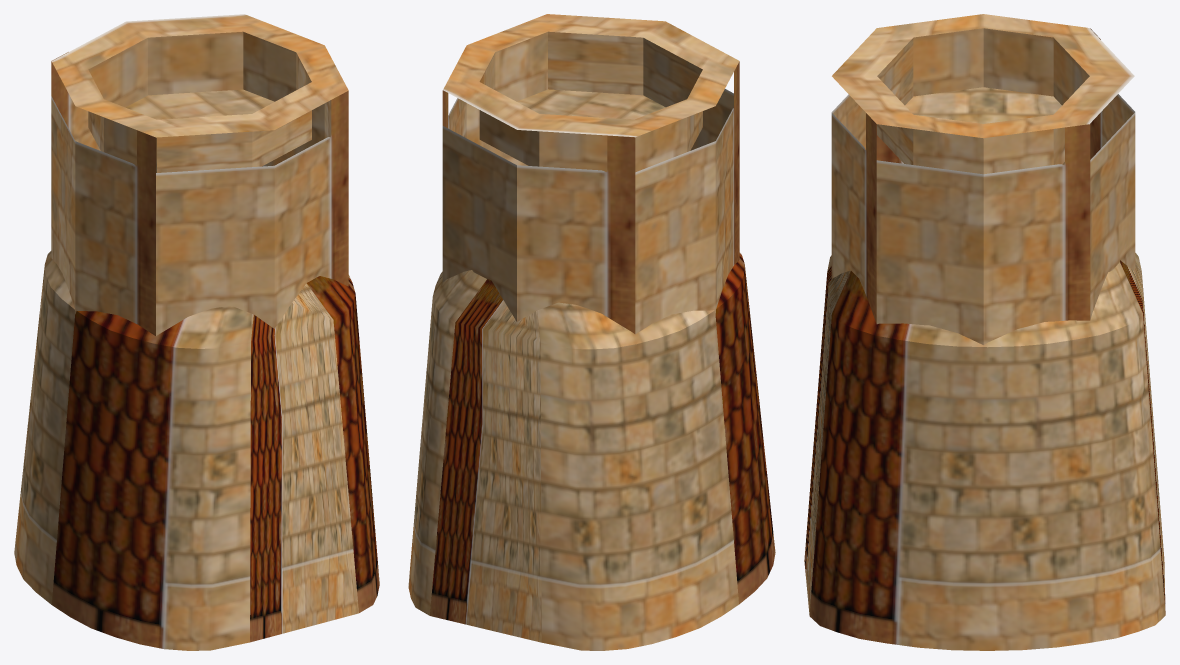
The model's file is wall_tower.dae.
The picture shows the model from 3 angles, left to right: view 1: azimuth 30°, elevation 25°; view 2: azimuth 150°, elevation 25°; view 3: azimuth 270°, elevation 25°; orthographic projection. The views are drawn at different scales.
Visible parts, largest first — view 1: wall_tower; view 2: wall_tower; view 3: wall_tower.
Part boxes in pixels (bbox=[...]): wall_tower: bbox=[14, 14, 379, 650]; wall_tower: bbox=[408, 14, 775, 650]; wall_tower: bbox=[804, 14, 1165, 650].
Size of the model in its own units: 10.62 by 11.17 by 17.18.
